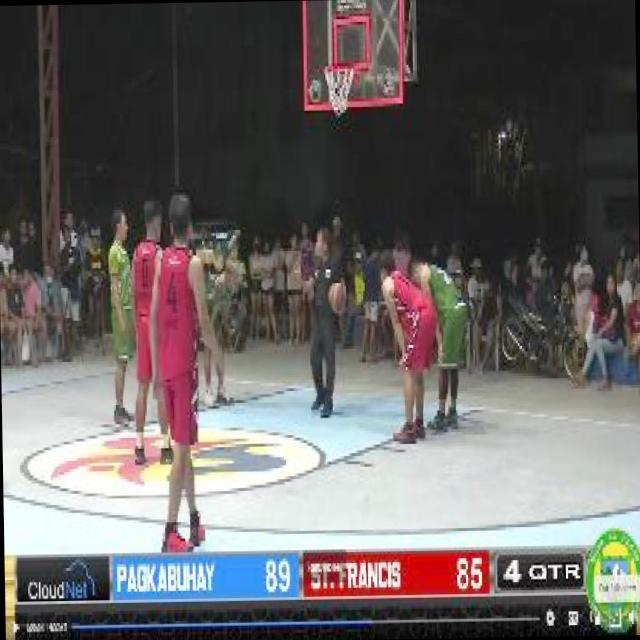ball: (326, 278, 350, 320)
hoop: (321, 61, 359, 73)
